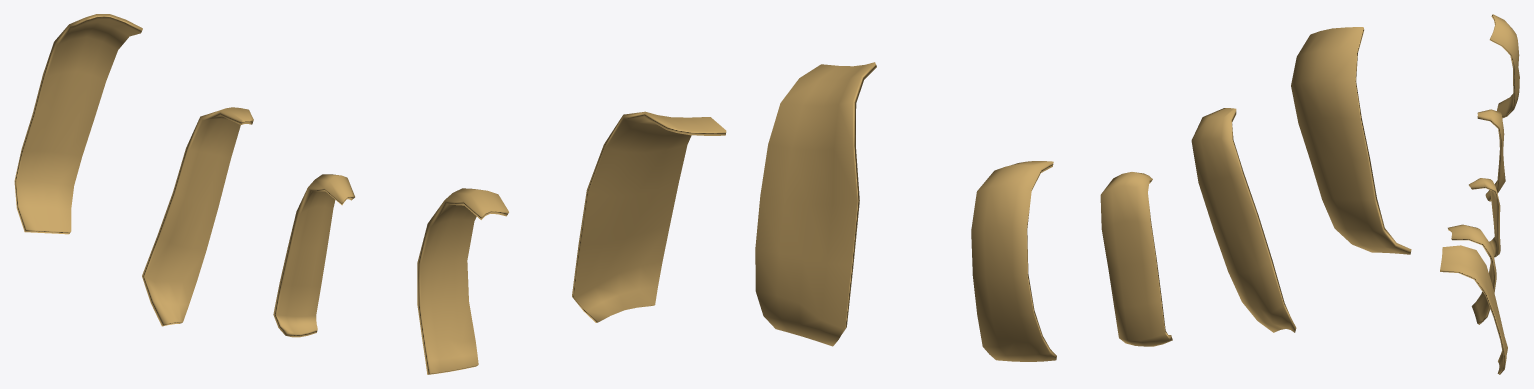
The picture shows the model from 3 angles, left to right: view 1: azimuth 30°, elevation 25°; view 2: azimuth 150°, elevation 25°; view 3: azimuth 270°, elevation 25°; orthographic projection. The views are drawn at different scales.
Visible parts, largest first — view 1: 右侧跖趾关节足底韧带; view 2: 右侧跖趾关节足底韧带; view 3: 右侧跖趾关节足底韧带.
Part boxes in pixels (box(x1,y1,x2,y2)): 右侧跖趾关节足底韧带: box(14, 14, 726, 374); 右侧跖趾关节足底韧带: box(755, 27, 1411, 361); 右侧跖趾关节足底韧带: box(1440, 14, 1519, 374).
Bounding box in the file's own units: 0.1005 × 0.0648 × 0.0212.
